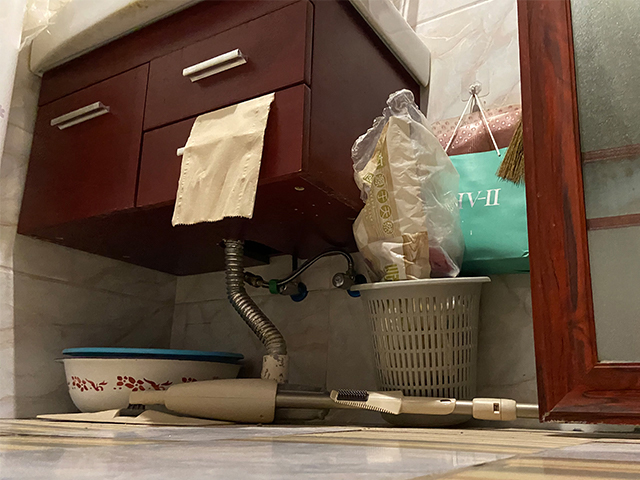trashcan: (349, 274, 493, 428)
